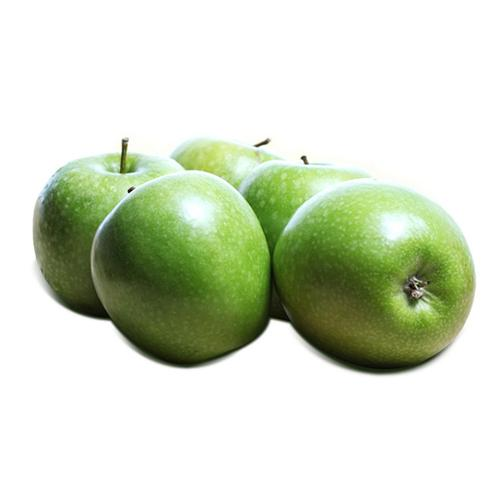unripe: (269, 173, 481, 375), (83, 165, 273, 372), (17, 129, 200, 323), (236, 152, 370, 292)
